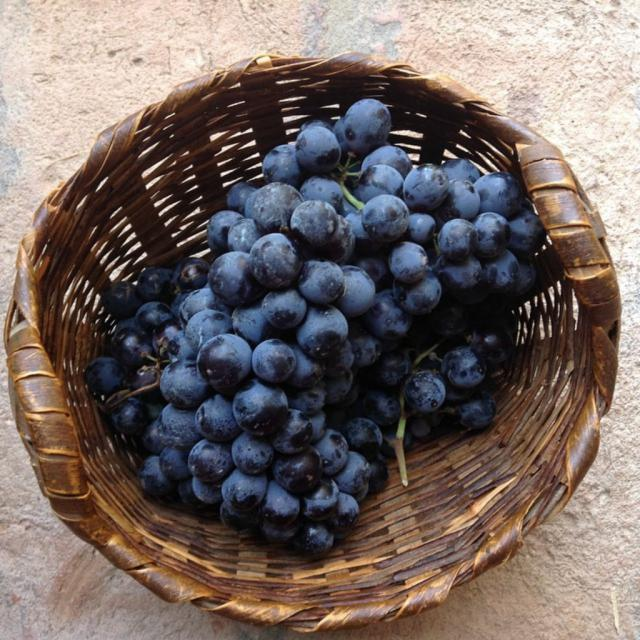Grape: (81, 96, 545, 560)
